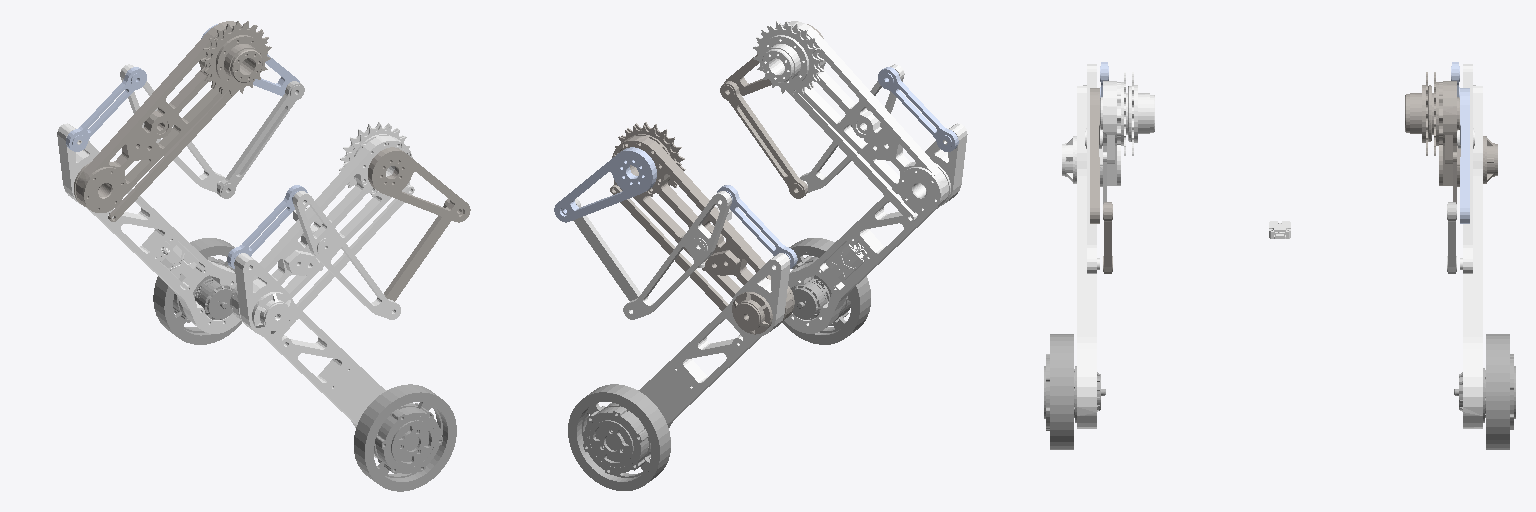
The robot description file, URDF, robot "chuanliantui":
<?xml version='1.0' encoding='utf-8'?>
<robot name="chuanliantui">
  <link name="base_link">
    <inertial>
      <origin xyz="-0.00602877755221842 0.000229808150438118 -0.00910941310145087" rpy="0 0 0" />
      <mass value="9.25503219054007" />
      <inertia ixx="0.0180319947363064" ixy="-0.000148435002152105" ixz="3.87836261073974E-05" iyy="0.0362971613717438" iyz="-3.81309965605312E-06" izz="0.0417155474758287" />
    </inertial>
    <visual>
      <origin xyz="0 0 0" rpy="0 0 0" />
      <geometry>
        <mesh filename="../meshes/base_link.STL" />
      </geometry>
      <material name="">
        <color rgba="0.866666666666667 0.909803921568627 1 1" />
      </material>
    </visual>
    <collision>
      <origin xyz="0 0 0" rpy="0 0 0" />
      <geometry>
        <mesh filename="../meshes/base_link.STL" />
      </geometry>
    </collision>
  </link>
  <link name="lf0">
    <inertial>
      <origin xyz="-0.059929412590832 -0.00497568108631433 -0.053540218687971" rpy="0 0 0" />
      <mass value="0.843183721447544" />
      <inertia ixx="0.000862027161715789" ixy="3.2046569368156E-06" ixz="-0.000779607816635491" iyy="0.00204842716850085" iyz="2.10942806214608E-06" izz="0.00130234764167046" />
    </inertial>
    <visual>
      <origin xyz="0 0 0" rpy="0 0 0" />
      <geometry>
        <mesh filename="../meshes/rf0.STL" />
      </geometry>
      <material name="">
        <color rgba="0.776470588235294 0.756862745098039 0.737254901960784 1" />
      </material>
    </visual>
    <collision>
      <origin xyz="0 0 0" rpy="0 0 0" />
      <geometry>
        <mesh filename="../meshes/rf0.STL" />
      </geometry>
    </collision>
  </link>
  <joint name="lf0" type="revolute">
    <origin xyz="-0.0114000000001256 0.176932975540448 0.0235200000001889" rpy="0 0 0" />
    <parent link="base_link" />
    <child link="lf0" />
    <axis xyz="0 1 0" />
    <limit lower="-100" upper="100" effort="40" velocity="16.8" />
  </joint>
  <link name="lf1">
    <inertial>
      <origin xyz="0.0780229590622458 0.0103199473600926 -0.0862619955363456" rpy="0 0 0" />
      <mass value="0.414858419057853" />
      <inertia ixx="0.00264006392005862" ixy="-2.34405638910854E-06" ixz="0.00206820524894272" iyy="0.00449630400849377" iyz="3.25800440585515E-06" izz="0.00188319431137968" />
    </inertial>
    <visual>
      <origin xyz="0 0 0" rpy="0 0 0" />
      <geometry>
        <mesh filename="../meshes/rf1.STL" />
      </geometry>
      <material name="">
        <color rgba="1 1 1 1" />
      </material>
    </visual>
    <collision>
      <origin xyz="0 0 0" rpy="0 0 0" />
      <geometry>
        <mesh filename="../meshes/rf1.STL" />
      </geometry>
    </collision>
  </link>
  <joint name="lf1" type="revolute">
    <origin xyz="-0.165288729653417 0.0114999999999917 -0.129536233732335" rpy="0 0 0" />
    <parent link="lf0" />
    <child link="lf1" />
    <axis xyz="0 1 0" />
    <limit lower="-0.77" upper="0.12" effort="40" velocity="16.8" />
  </joint>
  <link name="lfwheel">
    <inertial>
      <origin xyz="0.000258895715753299 0.0127591454924048 -0.000369429481127753" rpy="0 0 0" />
      <mass value="0.344781890891785" />
      <inertia ixx="0.000322531613191001" ixy="-3.23871644327295E-08" ixz="-2.34585830896995E-06" iyy="0.000620367874493322" iyz="8.00535601875758E-08" izz="0.000322776964245954" />
    </inertial>
    <visual>
      <origin xyz="0 0 0" rpy="0 0 0" />
      <geometry>
        <mesh filename="../meshes/rfwheel.STL" />
      </geometry>
      <material name="">
        <color rgba="0.752941176470588 0.752941176470588 0.752941176470588 1" />
      </material>
    </visual>
    <collision>
      <origin xyz="0 0 0" rpy="0 0 0" />
      <geometry>
        <mesh filename="../meshes/rfwheel.STL" />
      </geometry>
    </collision>
  </link>
  <joint name="lfwheel" type="revolute">
    <origin xyz="0.164832478009991 0.0199999999999965 -0.187963438447721" rpy="0 0 0" />
    <parent link="lf1" />
    <child link="lfwheel" />
    <axis xyz="0 1 0" />
    <limit effort="3.9" velocity="58.4" />
  </joint>
  <link name="rf0">
    <inertial>
      <origin xyz="-0.0599303446620469 0.00497568108572646 -0.0535401395509289" rpy="0 0 0" />
      <mass value="0.843183721447544" />
      <inertia ixx="0.000862027161496384" ixy="-3.20295947234109E-06" ixz="-0.000779607817918225" iyy="0.0020484271685008" iyz="-2.1095721935805E-06" izz="0.00130234764188992" />
    </inertial>
    <visual>
      <origin xyz="0 0 0" rpy="0 0 0" />
      <geometry>
        <mesh filename="../meshes/lf0.STL" />
      </geometry>
      <material name="">
        <color rgba="1 1 1 1" />
      </material>
    </visual>
    <collision>
      <origin xyz="0 0 0" rpy="0 0 0" />
      <geometry>
        <mesh filename="../meshes/lf0.STL" />
      </geometry>
    </collision>
  </link>
  <joint name="rf0" type="revolute">
    <origin xyz="-0.0114000000001232 -0.178572975540517 0.0235199999997" rpy="0 0 0" />
    <parent link="base_link" />
    <child link="rf0" />
    <axis xyz="0 -1 0" />
    <limit lower="-100" upper="100" effort="40" velocity="16.8" />
  </joint>
  <link name="rf1">
    <inertial>
      <origin xyz="0.078018324484777 -0.0103199473609263 -0.0862673341064149" rpy="0 0 0" />
      <mass value="0.414858418961741" />
      <inertia ixx="0.00264096842022897" ixy="2.35673588988693E-06" ixz="0.00206811984718295" iyy="0.00449643859324455" iyz="-3.24560463461076E-06" izz="0.00188242439596148" />
    </inertial>
    <visual>
      <origin xyz="0 0 0" rpy="0 0 0" />
      <geometry>
        <mesh filename="../meshes/lf1.STL" />
      </geometry>
      <material name="">
        <color rgba="1 1 1 1" />
      </material>
    </visual>
    <collision>
      <origin xyz="0 0 0" rpy="0 0 0" />
      <geometry>
        <mesh filename="../meshes/lf1.STL" />
      </geometry>
    </collision>
  </link>
  <joint name="rf1" type="revolute">
    <origin xyz="-0.165288729653418 -0.0115000000014235 -0.129536233732203" rpy="0 0 0" />
    <parent link="rf0" />
    <child link="rf1" />
    <axis xyz="0 -1 0" />
    <limit lower="-0.12" upper="0.77" effort="40" velocity="16.8" />
  </joint>
  <link name="rfwheel">
    <inertial>
      <origin xyz="0.000400272099244092 -0.00475914549162054 -0.000274670509450486" rpy="0 0 0" />
      <mass value="0.344781890910713" />
      <inertia ixx="0.000322675377029588" ixy="7.93341927053792E-08" ixz="-2.34896908748287E-06" iyy="0.000620367874493374" iyz="-3.41113911781432E-08" izz="0.000322633200407531" />
    </inertial>
    <visual>
      <origin xyz="0 0 0" rpy="0 0 0" />
      <geometry>
        <mesh filename="../meshes/lfwheel.STL" />
      </geometry>
      <material name="">
        <color rgba="0.752941176470588 0.752941176470588 0.752941176470588 1" />
      </material>
    </visual>
    <collision>
      <origin xyz="0 0 0" rpy="0 0 0" />
      <geometry>
        <mesh filename="../meshes/lfwheel.STL" />
      </geometry>
    </collision>
  </link>
  <joint name="rfwheel" type="revolute">
    <origin xyz="0.16483247801054 -0.0280000000020713 -0.187963438447404" rpy="0 0 0" />
    <parent link="rf1" />
    <child link="rfwheel" />
    <axis xyz="0 -1 0" />
    <limit effort="3.9" velocity="58.4" />
  </joint>
  <link name="lf00">
    <inertial>
      <origin xyz="0.0287300930886477 0.00217309925781833 -0.0226492653085871" rpy="0 0 0" />
      <mass value="0.108755464967073" />
      <inertia ixx="9.09875569319413E-05" ixy="-6.95628429076217E-08" ixz="8.83433748700864E-05" iyy="0.000222724145523073" iyz="5.48396164444915E-08" izz="0.000133403996797966" />
    </inertial>
    <visual>
      <origin xyz="0 0 0" rpy="0 0 0" />
      <geometry>
        <mesh filename="../meshes/rf00.STL" />
      </geometry>
      <material name="">
        <color rgba="0.866666666666667 0.909803921568627 1 1" />
      </material>
    </visual>
    <collision>
      <origin xyz="0 0 0" rpy="0 0 0" />
      <geometry>
        <mesh filename="../meshes/rf00.STL" />
      </geometry>
    </collision>
  </link>
  <joint name="lf00" type="fixed">
    <origin xyz="4.9960036108132e-16 0.011022024459522 1.51996470965088e-14" rpy="0 -0 0" />
    <parent link="lf0" />
    <child link="lf00" />
  </joint>
  <link name="lf01">
    <inertial>
      <origin xyz="-0.0446504423003866 0.000189202771808422 -0.0506220110463802" rpy="0 0 0" />
      <mass value="0.0527615983680123" />
      <inertia ixx="3.44040667678936E-05" ixy="3.91600237083142E-17" ixz="-2.91000644183978E-05" iyy="6.10850450919855E-05" iyz="4.57930837523081E-17" izz="2.70794555800587E-05" />
    </inertial>
    <visual>
      <origin xyz="0 0 0" rpy="0 0 0" />
      <geometry>
        <mesh filename="../meshes/rf01.STL" />
      </geometry>
      <material name="">
        <color rgba="0.894117647058823 0.894117647058823 0.894117647058823 1" />
      </material>
    </visual>
    <collision>
      <origin xyz="0 0 0" rpy="0 0 0" />
      <geometry>
        <mesh filename="../meshes/rf01.STL" />
      </geometry>
    </collision>
  </link>
  <joint name="lf01" type="fixed">
    <origin xyz="0.0890545087133235 -0.0110249999999036 -0.0702058008844835" rpy="0 -0 0" />
    <parent link="lf00" />
    <child link="lf01" />
  </joint>
  <link name="lf02">
    <inertial>
      <origin xyz="-0.0707835765672588 -0.000678963352955642 0.0846138697211773" rpy="0 0 0" />
      <mass value="0.131348519233667" />
      <inertia ixx="0.00025866828424452" ixy="-2.36401615329327E-16" ixz="0.000172315524142171" iyy="0.000390303775067041" iyz="3.52063709971865E-16" izz="0.000133396478429443" />
    </inertial>
    <visual>
      <origin xyz="0 0 0" rpy="0 0 0" />
      <geometry>
        <mesh filename="../meshes/rf02.STL" />
      </geometry>
      <material name="">
        <color rgba="1 1 1 1" />
      </material>
    </visual>
    <collision>
      <origin xyz="0 0 0" rpy="0 0 0" />
      <geometry>
        <mesh filename="../meshes/rf02.STL" />
      </geometry>
    </collision>
  </link>
  <joint name="lf02" type="fixed">
    <origin xyz="-0.0893008846007715 0.0165000000001005 -0.101244022092738" rpy="0 -0 0" />
    <parent link="lf01" />
    <child link="lf02" />
  </joint>
  <link name="lf03">
    <inertial>
      <origin xyz="-0.0380164078202833 4.69346783660285E-14 -0.029793333758428" rpy="0 0 0" />
      <mass value="0.0511656410370527" />
      <inertia ixx="1.55939895831299E-05" ixy="2.37014245891641E-17" ixz="-1.77228713484195E-05" iyy="3.95520545085041E-05" iyz="2.04168619845963E-17" izz="2.43190852262419E-05" />
    </inertial>
    <visual>
      <origin xyz="0 0 0" rpy="0 0 0" />
      <geometry>
        <mesh filename="../meshes/rf03.STL" />
      </geometry>
      <material name="">
        <color rgba="0.866666666666667 0.909803921568627 1 1" />
      </material>
    </visual>
    <collision>
      <origin xyz="0 0 0" rpy="0 0 0" />
      <geometry>
        <mesh filename="../meshes/rf03.STL" />
      </geometry>
    </collision>
  </link>
  <joint name="lf03" type="fixed">
    <origin xyz="-0.115541773105976 -0.0130000000002235 0.163022939626966" rpy="0 -0 0" />
    <parent link="lf02" />
    <child link="lf03" />
  </joint>
  <link name="rf00">
    <inertial>
      <origin xyz="0.0287300930886472 -0.00217309925803372 -0.0226492653085664" rpy="0 0 0" />
      <mass value="0.108755464967074" />
      <inertia ixx="9.09875569319398E-05" ixy="6.95628437601573E-08" ixz="8.83433748700853E-05" iyy="0.000222724145523072" iyz="-5.48396173065685E-08" izz="0.000133403996797969" />
    </inertial>
    <visual>
      <origin xyz="0 0 0" rpy="0 0 0" />
      <geometry>
        <mesh filename="../meshes/lf00.STL" />
      </geometry>
      <material name="">
        <color rgba="0.776470588235294 0.756862745098039 0.737254901960784 1" />
      </material>
    </visual>
    <collision>
      <origin xyz="0 0 0" rpy="0 0 0" />
      <geometry>
        <mesh filename="../meshes/lf00.STL" />
      </geometry>
    </collision>
  </link>
  <joint name="rf00" type="fixed">
    <origin xyz="-1.49880108324396e-15 -0.011022024459524 -8.99974539336768e-15" rpy="0 -0 0" />
    <parent link="rf0" />
    <child link="rf00" />
  </joint>
  <link name="rf01">
    <inertial>
      <origin xyz="-0.0446504423003861 -0.000189202772297822 -0.0506220110463771" rpy="0 0 0" />
      <mass value="0.0527615983680122" />
      <inertia ixx="3.44040667678935E-05" ixy="-3.20540987491865E-16" ixz="-2.91000644183978E-05" iyy="6.10850450919854E-05" iyz="-3.74572243619093E-16" izz="2.70794555800586E-05" />
    </inertial>
    <visual>
      <origin xyz="0 0 0" rpy="0 0 0" />
      <geometry>
        <mesh filename="../meshes/lf01.STL" />
      </geometry>
      <material name="">
        <color rgba="0.776470588235294 0.756862745098039 0.737254901960784 1" />
      </material>
    </visual>
    <collision>
      <origin xyz="0 0 0" rpy="0 0 0" />
      <geometry>
        <mesh filename="../meshes/lf01.STL" />
      </geometry>
    </collision>
  </link>
  <joint name="rf01" type="fixed">
    <origin xyz="0.0890545087133239 0.0110249999992321 -0.0702058008845904" rpy="0 -0 0" />
    <parent link="rf00" />
    <child link="rf01" />
  </joint>
  <link name="rf02">
    <inertial>
      <origin xyz="-0.0707835765672591 0.000678963353767797 0.084613869721171" rpy="0 0 0" />
      <mass value="0.131348519233667" />
      <inertia ixx="0.00025866828424452" ixy="1.89740839656789E-15" ixz="0.000172315524142171" iyy="0.000390303775067041" iyz="-2.82893856390611E-15" izz="0.000133396478429443" />
    </inertial>
    <visual>
      <origin xyz="0 0 0" rpy="0 0 0" />
      <geometry>
        <mesh filename="../meshes/lf02.STL" />
      </geometry>
      <material name="">
        <color rgba="1 1 1 1" />
      </material>
    </visual>
    <collision>
      <origin xyz="0 0 0" rpy="0 0 0" />
      <geometry>
        <mesh filename="../meshes/lf02.STL" />
      </geometry>
    </collision>
  </link>
  <joint name="rf02" type="fixed">
    <origin xyz="-0.0893008846007706 -0.0165000000010802 -0.101244022092578" rpy="0 -0 0" />
    <parent link="rf01" />
    <child link="rf02" />
  </joint>
  <link name="rf03">
    <inertial>
      <origin xyz="-0.0380164078202828 -7.54951656745106E-15 -0.029793333758428" rpy="0 0 0" />
      <mass value="0.0511656410370526" />
      <inertia ixx="1.55939895831299E-05" ixy="6.62410802011277E-19" ixz="-1.77228713484194E-05" iyy="3.95520545085039E-05" iyz="4.96240148893304E-19" izz="2.43190852262417E-05" />
    </inertial>
    <visual>
      <origin xyz="0 0 0" rpy="0 0 0" />
      <geometry>
        <mesh filename="../meshes/lf03.STL" />
      </geometry>
      <material name="">
        <color rgba="0.866666666666667 0.909803921568627 1 1" />
      </material>
    </visual>
    <collision>
      <origin xyz="0 0 0" rpy="0 0 0" />
      <geometry>
        <mesh filename="../meshes/lf03.STL" />
      </geometry>
    </collision>
  </link>
  <joint name="rf03" type="fixed">
    <origin xyz="-0.115541773105979 0.0130000000017961 0.163022939626841" rpy="0 -0 0" />
    <parent link="rf02" />
    <child link="rf03" />
  </joint>
  <link name="imu-link">
    <inertial>
      <origin xyz="0.000184082171325678 -9.40102762600828E-05 0.00497698966932855" rpy="0 0 0" />
      <mass value="0.00303751642818645" />
      <inertia ixx="1.45387679451712E-07" ixy="2.11270620322235E-09" ixz="2.90844814825675E-09" iyy="1.21883316071383E-07" iyz="-2.23555953007131E-10" izz="2.31438970445244E-07" />
    </inertial>
    <visual>
      <origin xyz="0 0 0" rpy="0 0 0" />
      <geometry>
        <mesh filename="../meshes/imu-link.STL" />
      </geometry>
      <material name="">
        <color rgba="1 1 1 1" />
      </material>
    </visual>
    <collision>
      <origin xyz="0 0 0" rpy="0 0 0" />
      <geometry>
        <mesh filename="../meshes/imu-link.STL" />
      </geometry>
    </collision>
  </link>
  <joint name="imu-link" type="fixed">
    <origin xyz="-0.0109010626554575 -0.000819999999844778 -0.113980000000039" rpy="0 0 0" />
    <parent link="base_link" />
    <child link="imu-link" />
  </joint>
  <link name="lf001">
    <inertial>
      <origin xyz="-3.46944695195361E-15 -2.77555756156289E-17 1.15046860926782E-14" rpy="0 0 0" />
      <mass value="0.000125663706143591" />
      <inertia ixx="1.07861347773249E-09" ixy="4.66480852066549E-24" ixz="-1.84500050690524E-25" iyy="8.16814089933348E-10" iyz="-6.70892410212183E-25" izz="1.07861347773249E-09" />
    </inertial>
    <visual>
      <origin xyz="0 0 0" rpy="0 0 0" />
      <geometry>
        <mesh filename="../meshes/rf001.STL" />
      </geometry>
      <material name="">
        <color rgba="1 1 1 1" />
      </material>
    </visual>
    <collision>
      <origin xyz="0 0 0" rpy="0 0 0" />
      <geometry>
        <mesh filename="../meshes/rf001.STL" />
      </geometry>
    </collision>
  </link>
  <joint name="lf001" type="fixed">
    <origin xyz="0.0142060577080023 0.173432975540499 -0.0135852989310789" rpy="0 0 0" />
    <parent link="base_link" />
    <child link="lf001" />
  </joint>
  <link name="lf002">
    <inertial>
      <origin xyz="-4.9960036108132E-16 6.43929354282591E-15 -8.49320613838245E-15" rpy="0 0 0" />
      <mass value="0.000314159265358979" />
      <inertia ixx="1.14929931243826E-08" ixy="1.45267818847665E-22" ixz="1.8008411252462E-24" iyy="2.04203522483337E-09" iyz="-3.54299064370818E-23" izz="1.14929931243826E-08" />
    </inertial>
    <visual>
      <origin xyz="0 0 0" rpy="0 0 0" />
      <geometry>
        <mesh filename="../meshes/rf002.STL" />
      </geometry>
      <material name="">
        <color rgba="1 1 1 1" />
      </material>
    </visual>
    <collision>
      <origin xyz="0 0 0" rpy="0 0 0" />
      <geometry>
        <mesh filename="../meshes/rf002.STL" />
      </geometry>
    </collision>
  </link>
  <joint name="lf002" type="fixed">
    <origin xyz="-0.156996167107753 0.198432975540677 -0.150480600144429" rpy="0 0 0" />
    <parent link="base_link" />
    <child link="lf002" />
  </joint>
  <link name="rf001">
    <inertial>
      <origin xyz="-3.77475828372553E-15 6.20337115009306E-15 4.55885329486705E-15" rpy="0 0 0" />
      <mass value="0.000125663706143592" />
      <inertia ixx="1.07861347773249E-09" ixy="-1.84299232572944E-24" ixz="-1.49064839553833E-25" iyy="8.16814089933349E-10" iyz="-6.15747036041989E-25" izz="1.07861347773249E-09" />
    </inertial>
    <visual>
      <origin xyz="0 0 0" rpy="0 0 0" />
      <geometry>
        <mesh filename="../meshes/lf001.STL" />
      </geometry>
      <material name="">
        <color rgba="1 1 1 1" />
      </material>
    </visual>
    <collision>
      <origin xyz="0 0 0" rpy="0 0 0" />
      <geometry>
        <mesh filename="../meshes/lf001.STL" />
      </geometry>
    </collision>
  </link>
  <joint name="rf001" type="fixed">
    <origin xyz="0.014206057708 -0.175072975540468 -0.0135852989315572" rpy="0 0 0" />
    <parent link="base_link" />
    <child link="rf001" />
  </joint>
  <link name="rf002">
    <inertial>
      <origin xyz="-0.046224797525756 0.0170029755405088 0.105987049277025" rpy="0 0 0" />
      <mass value="0.000188495559215424" />
      <inertia ixx="2.87455727803607E-09" ixy="-1.86710865195642E-23" ixz="7.18936274574598E-27" iyy="1.22522113490026E-09" iyz="-6.74448727042132E-24" izz="2.87455727803607E-09" />
    </inertial>
    <visual>
      <origin xyz="0 0 0" rpy="0 0 0" />
      <geometry>
        <mesh filename="../meshes/lf002.STL" />
      </geometry>
      <material name="">
        <color rgba="1 1 1 1" />
      </material>
    </visual>
    <collision>
      <origin xyz="0 0 0" rpy="0 0 0" />
      <geometry>
        <mesh filename="../meshes/lf002.STL" />
      </geometry>
    </collision>
  </link>
  <joint name="rf002" type="fixed">
    <origin xyz="-0.156996167107749 -0.200072975540276 -0.150480600144982" rpy="0 0 0" />
    <parent link="base_link" />
    <child link="rf002" />
  </joint>
  <link name="lf04">
    <inertial>
      <origin xyz="5.55111512312578E-17 0.00100000000000641 -3.98119037736677E-16" rpy="0 0 0" />
      <mass value="0.000188495559215424" />
      <inertia ixx="2.87455727803606E-09" ixy="2.27002900884047E-23" ixz="7.18936274527304E-27" iyy="1.22522113490025E-09" iyz="3.98668057916869E-23" izz="2.87455727803606E-09" />
    </inertial>
    <visual>
      <origin xyz="0 0 0" rpy="0 0 0" />
      <geometry>
        <mesh filename="../meshes/rf04.STL" />
      </geometry>
      <material name="">
        <color rgba="1 1 1 1" />
      </material>
    </visual>
    <collision>
      <origin xyz="0 0 0" rpy="0 0 0" />
      <geometry>
        <mesh filename="../meshes/rf04.STL" />
      </geometry>
    </collision>
  </link>
  <joint name="lf04" type="fixed">
    <origin xyz="-0.100655914012724 0.193430000000029 -0.0464295662155702" rpy="0 0 0" />
    <parent link="base_link" />
    <child link="lf04" />
  </joint>
  <link name="lf05">
    <inertial>
      <origin xyz="6.10622663543836E-16 0.00100000000000905 5.9015292652731E-15" rpy="0 0 0" />
      <mass value="0.000188495559215424" />
      <inertia ixx="2.87455727803608E-09" ixy="2.27623286343447E-23" ixz="-1.86600313970138E-26" iyy="1.22522113490026E-09" iyz="3.98047672457444E-23" izz="2.87455727803608E-09" />
    </inertial>
    <visual>
      <origin xyz="0 0 0" rpy="0 0 0" />
      <geometry>
        <mesh filename="../meshes/rf05.STL" />
      </geometry>
      <material name="">
        <color rgba="1 1 1 1" />
      </material>
    </visual>
    <collision>
      <origin xyz="0 0 0" rpy="0 0 0" />
      <geometry>
        <mesh filename="../meshes/rf05.STL" />
      </geometry>
    </collision>
  </link>
  <joint name="lf05" type="fixed">
    <origin xyz="-0.203220964633881 0.180430000000026 -0.0444935508676031" rpy="0 0 0" />
    <parent link="base_link" />
    <child link="lf05" />
  </joint>
  <link name="rf04">
    <inertial>
      <origin xyz="-1.88737914186277E-15 -0.00100000000000916 -7.40726924242097E-16" rpy="0 0 0" />
      <mass value="0.000188495559215424" />
      <inertia ixx="2.87455727803608E-09" ixy="-1.86917660348765E-23" ixz="-1.34901525654984E-26" iyy="1.22522113490026E-09" iyz="2.21181961844378E-22" izz="2.87455727803608E-09" />
    </inertial>
    <visual>
      <origin xyz="0 0 0" rpy="0 0 0" />
      <geometry>
        <mesh filename="../meshes/lf04.STL" />
      </geometry>
      <material name="">
        <color rgba="1 1 1 1" />
      </material>
    </visual>
    <collision>
      <origin xyz="0 0 0" rpy="0 0 0" />
      <geometry>
        <mesh filename="../meshes/lf04.STL" />
      </geometry>
    </collision>
  </link>
  <joint name="rf04" type="fixed">
    <origin xyz="-0.100655914012723 -0.195069999999905 -0.0464295662160984" rpy="0 0 0" />
    <parent link="base_link" />
    <child link="rf04" />
  </joint>
  <link name="rf05">
    <inertial>
      <origin xyz="0.102565050621151 -0.0140000000000128 -0.00193601534834479" rpy="0 0 0" />
      <mass value="0.000188495559215424" />
      <inertia ixx="2.87455727803608E-09" ixy="-1.86917660348765E-23" ixz="-1.34901525654984E-26" iyy="1.22522113490026E-09" iyz="2.21181961844378E-22" izz="2.87455727803608E-09" />
    </inertial>
    <visual>
      <origin xyz="0 0 0" rpy="0 0 0" />
      <geometry>
        <mesh filename="../meshes/lf05.STL" />
      </geometry>
      <material name="">
        <color rgba="1 1 1 1" />
      </material>
    </visual>
    <collision>
      <origin xyz="0 0 0" rpy="0 0 0" />
      <geometry>
        <mesh filename="../meshes/lf05.STL" />
      </geometry>
    </collision>
  </link>
  <joint name="rf05" type="fixed">
    <origin xyz="-0.203220964633882 -0.182069999999905 -0.0444935508680955" rpy="0 0 0" />
    <parent link="base_link" />
    <child link="rf05" />
  </joint>
</robot>

--- Render facts (derived) ---
The picture shows the robot from 3 angles, left to right: view 1: azimuth 30°, elevation 25°; view 2: azimuth 150°, elevation 25°; view 3: azimuth 270°, elevation 25°; orthographic projection.
Robot: chuanliantui — 24 links, 23 joints (6 revolute, 17 fixed); root link base_link; default pose: all joints at 0.
Visible links, largest first — view 1: lf0, rf0, rfwheel, lf1, rf1, lfwheel, rf00, rf02, lf01, lf03, rf01, rf03 (+2 smaller); view 2: rf0, lf0, lfwheel, rf1, lf1, rfwheel, lf00, lf02, rf01, rf03, lf01, lf03 (+2 smaller); view 3: rf1, lf1, lf0, rf0, rfwheel, lfwheel, lf00, rf00, lf02, rf02, lf01, rf01.
Boxes of the visible links, x1=… form: lf0: x1=74, y1=21, x2=271, y2=221; rf0: x1=230, y1=122, x2=414, y2=334; rfwheel: x1=354, y1=384, x2=456, y2=491; lf1: x1=57, y1=123, x2=240, y2=333; rf1: x1=234, y1=253, x2=413, y2=458; lfwheel: x1=153, y1=238, x2=241, y2=344; rf00: x1=368, y1=147, x2=470, y2=222; rf02: x1=293, y1=191, x2=400, y2=319; lf01: x1=217, y1=81, x2=304, y2=198; lf03: x1=66, y1=67, x2=146, y2=151; rf01: x1=384, y1=199, x2=451, y2=301; rf03: x1=227, y1=185, x2=307, y2=268; rf0: x1=753, y1=21, x2=950, y2=221; lf0: x1=610, y1=122, x2=794, y2=334; lfwheel: x1=568, y1=384, x2=670, y2=490; rf1: x1=784, y1=123, x2=967, y2=333; lf1: x1=608, y1=253, x2=789, y2=454; rfwheel: x1=782, y1=238, x2=870, y2=344; lf00: x1=554, y1=147, x2=656, y2=222; lf02: x1=623, y1=191, x2=731, y2=319; rf01: x1=720, y1=81, x2=807, y2=198; rf03: x1=878, y1=67, x2=958, y2=151; lf01: x1=573, y1=198, x2=640, y2=300; lf03: x1=717, y1=185, x2=797, y2=268; rf1: x1=1077, y1=85, x2=1096, y2=428; lf1: x1=1463, y1=85, x2=1482, y2=428; lf0: x1=1405, y1=72, x2=1497, y2=203; rf0: x1=1062, y1=72, x2=1154, y2=203; rfwheel: x1=1044, y1=334, x2=1105, y2=449; lfwheel: x1=1454, y1=334, x2=1515, y2=449; lf00: x1=1460, y1=88, x2=1469, y2=223; rf00: x1=1090, y1=88, x2=1099, y2=223; lf02: x1=1457, y1=64, x2=1474, y2=273; rf02: x1=1085, y1=64, x2=1102, y2=273; lf01: x1=1447, y1=202, x2=1456, y2=273; rf01: x1=1103, y1=202, x2=1112, y2=273.
Size in the robot's own frame: 0.3333 by 0.4865 by 0.4207 metres.
Meshes: 24 distinct files referenced, 23 mesh visuals loaded (23 binary STL); not drawn: 1 (reference not matched to a file when rendering).
